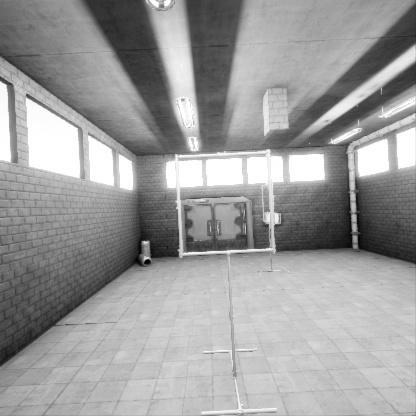gate: (179, 165, 280, 266), (261, 193, 274, 235)
